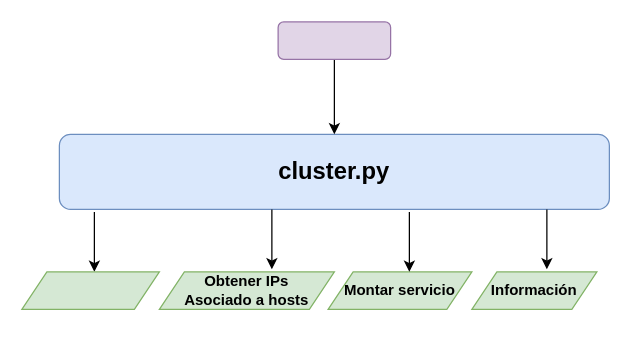
Some shapes in this 631 by 341 pixel diagram are drawn without their labels. Here are the shapes that lost their labels. From the top down, the centre of each, then its label:
At (334,40): "Ejecución".
At (90,290): "Estado Clúster".
